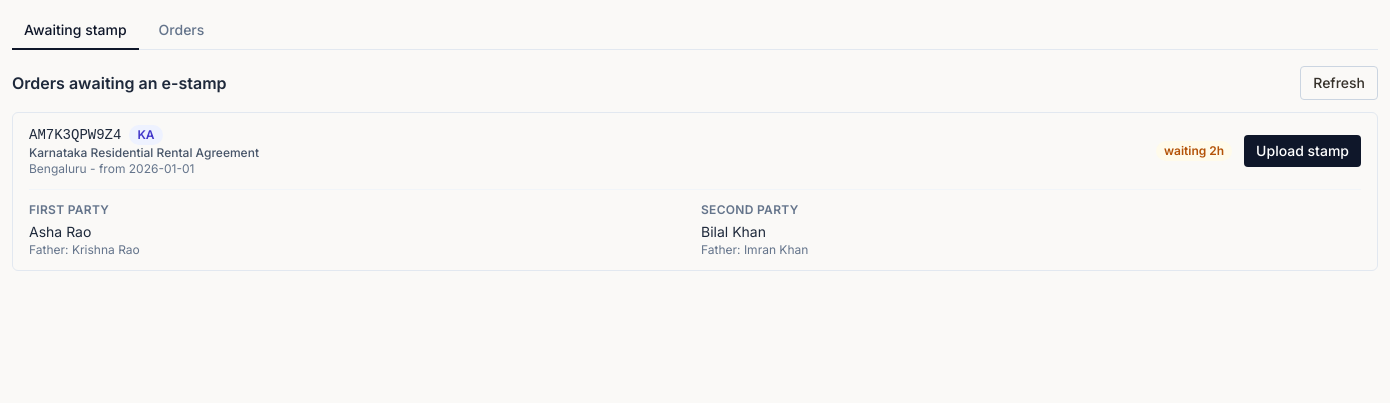
Test: StaffConsole tabs › requests the orders list once when the Orders tab is opened
What coordinates should you click on to do the following:
click the button with test id "staff-tab-orders"
I would click on:
 (181, 31)
Its box is [147,12,216,50].
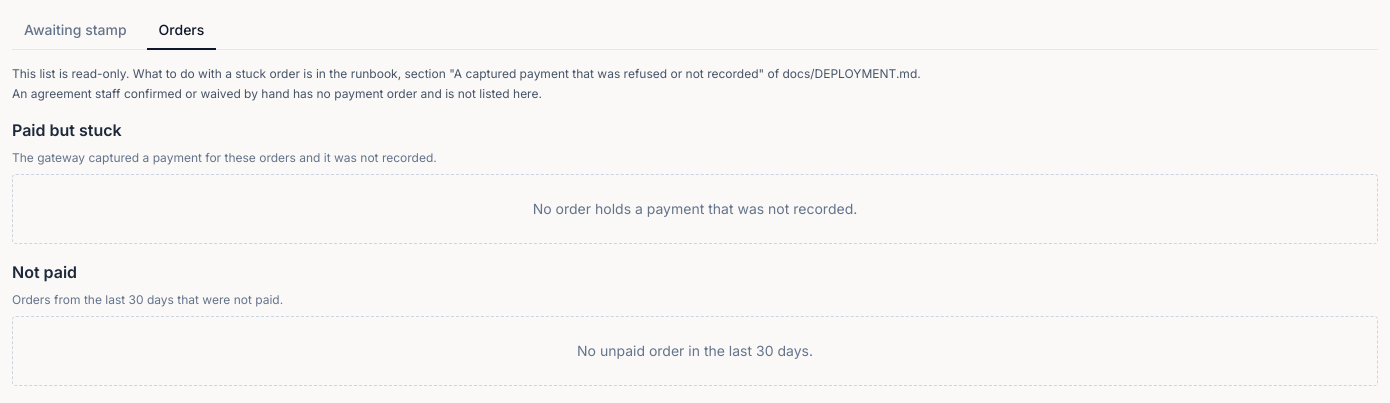
Check: the element with test id "orders-stuck" is shown, box [12,118,1378,244]
Check: the element with test id "orders-not-paid" is shown, box [12,260,1378,386]
Check: the element with test id "staff-queue" is gone
